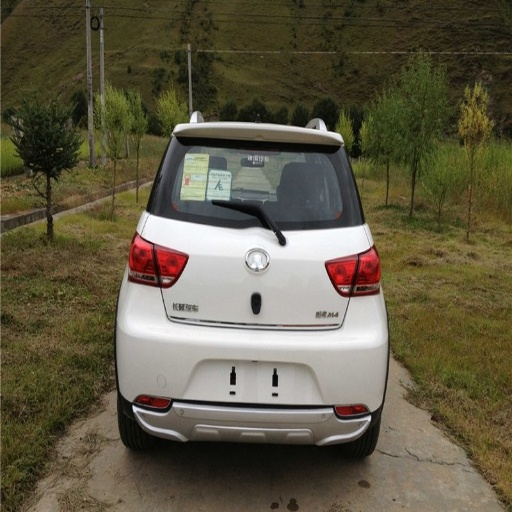back_bumper: (118, 281, 389, 447)
